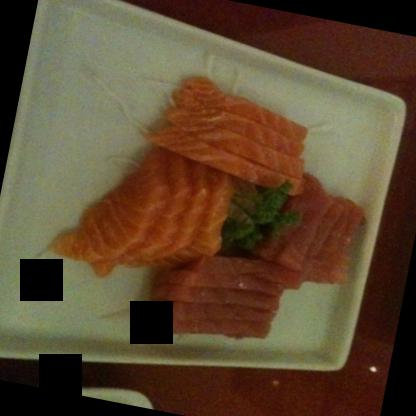salmon: (52, 143, 235, 293), (144, 75, 316, 194), (140, 236, 296, 360), (251, 171, 364, 298)
